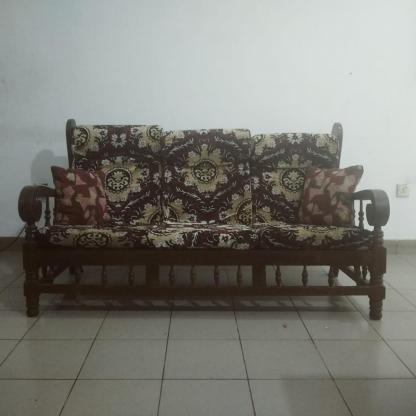Sofa: (17, 119, 387, 321)
